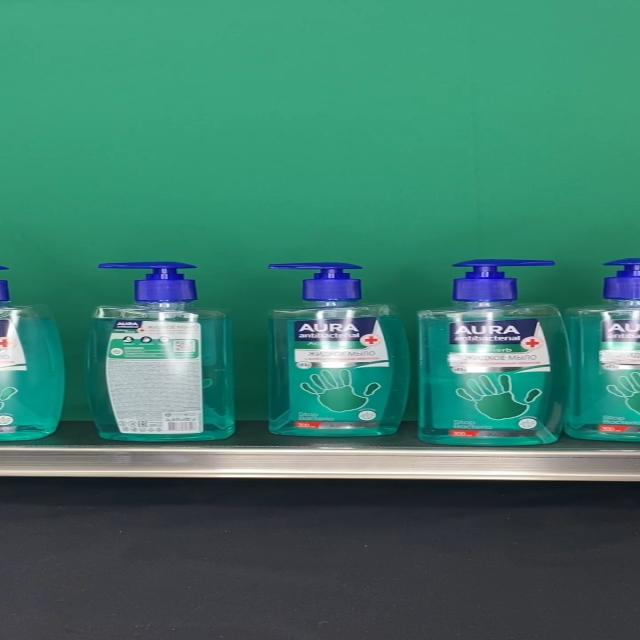Bottle: (416, 258, 571, 446), (85, 262, 236, 442), (264, 262, 410, 437)
Cap: (450, 259, 556, 301), (98, 261, 196, 303), (266, 262, 362, 300)
